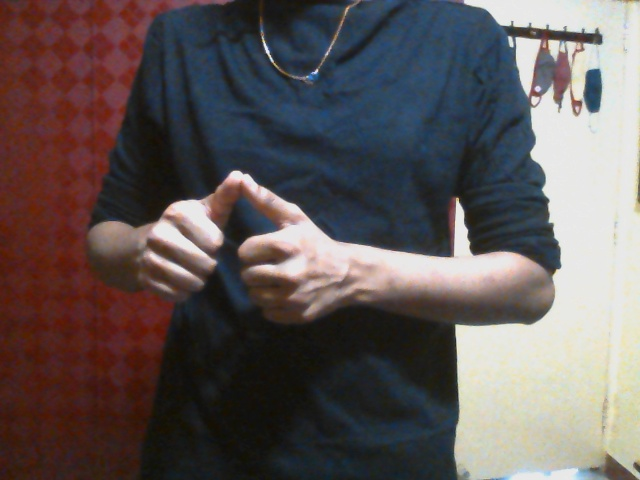A: (139, 170, 331, 326)
